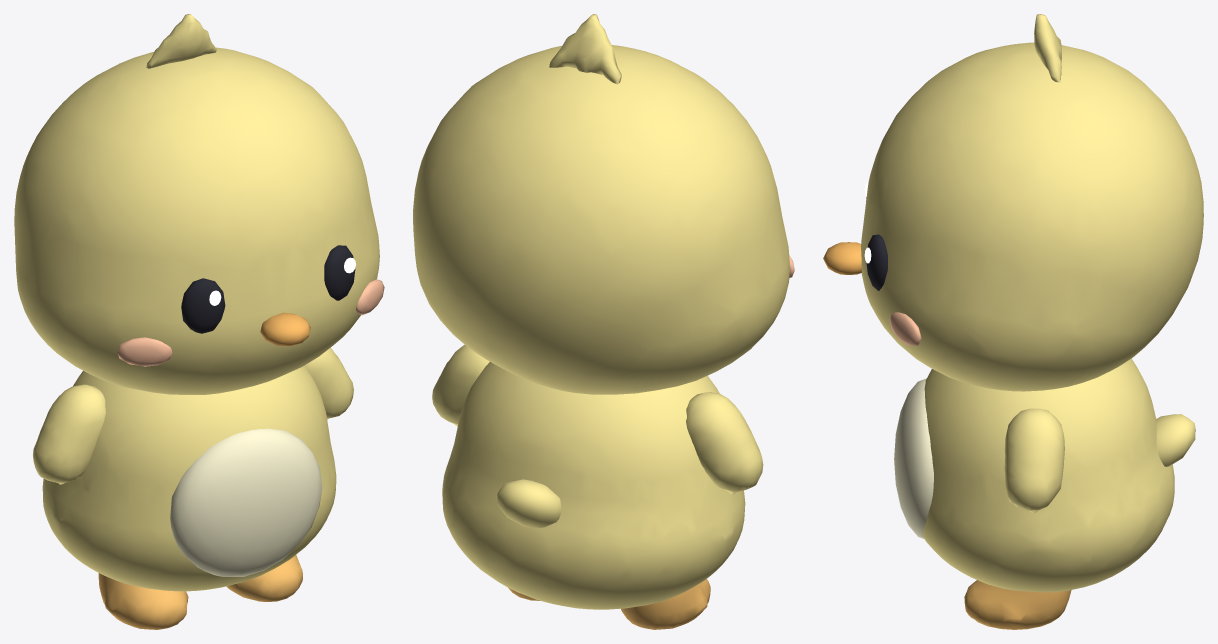
File: ppiyak.glb
3 views of the same model, side by side, from view 1: azimuth 30°, elevation 25°; view 2: azimuth 150°, elevation 25°; view 3: azimuth 270°, elevation 25° (orthographic). The views are drawn at different scales.
Parts seen in each view (by area): view 1: head_m, body_m, belly_m, armR_m, legR_m, armL_m, ex0_m, legL_m, eye.001, face_beak, cheek.001, eye (+1 smaller); view 2: head_m, body_m, armR_m, ex0_m, tail0_m, armL_m, legR_m; view 3: head_m, body_m, armL_m, belly_m, legL_m, tail0_m, ex0_m, face_beak, eye, cheek.
Part boxes in pixels (x1,y1,x2,y2): head_m: (14,47,379,394); body_m: (42,366,336,591); belly_m: (170,428,322,576); armR_m: (33,384,105,484); legR_m: (98,573,188,629); armL_m: (304,347,353,419); ex0_m: (146,14,216,68); legL_m: (226,555,302,601); eye.001: (181,278,225,333); face_beak: (260,312,310,346); cheek.001: (117,337,172,366); eye: (324,245,355,300); head_m: (413,45,789,394); body_m: (442,362,745,609); armR_m: (686,392,763,494); ex0_m: (549,14,621,84); tail0_m: (496,479,561,527); armL_m: (432,344,489,426); legR_m: (621,579,710,629); head_m: (861,42,1203,391); body_m: (923,358,1174,592); armL_m: (1004,408,1064,512); belly_m: (894,378,933,538); legL_m: (964,580,1071,629); tail0_m: (1156,414,1195,466); ex0_m: (1034,14,1061,82); face_beak: (823,242,861,274); eye: (866,234,887,290); cheek: (889,312,921,345).
Size of the model in its own units: 0.6475 by 1.12 by 0.6621.
